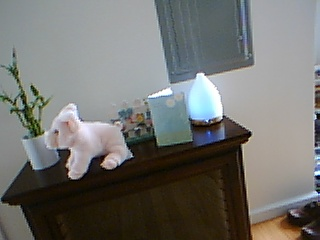piggy: (44, 102, 128, 181)
